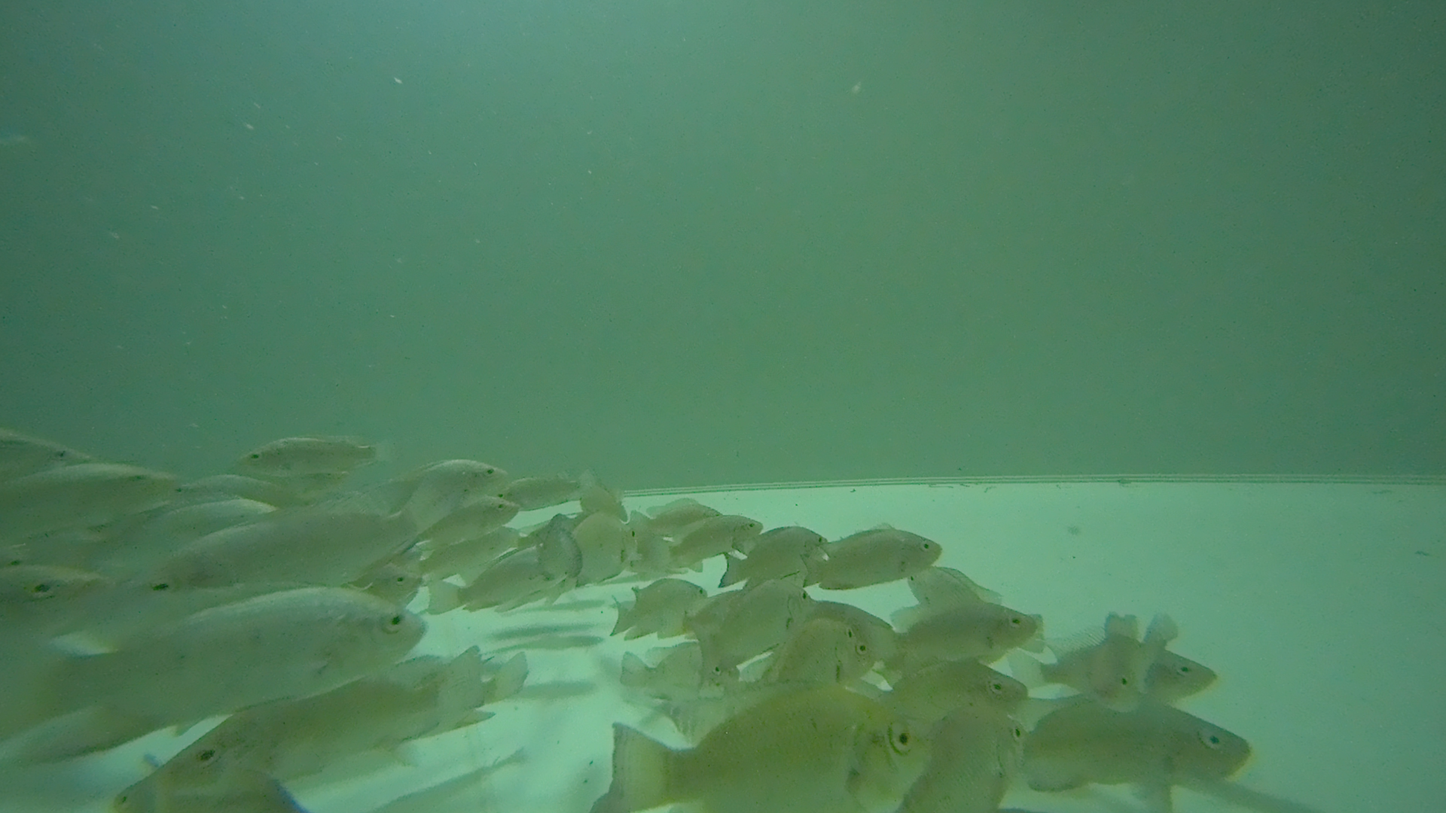fish: (795, 528, 943, 594), (235, 438, 394, 477)
